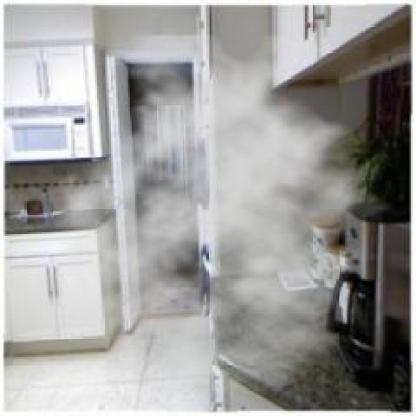Smoke: (41, 36, 408, 396)
